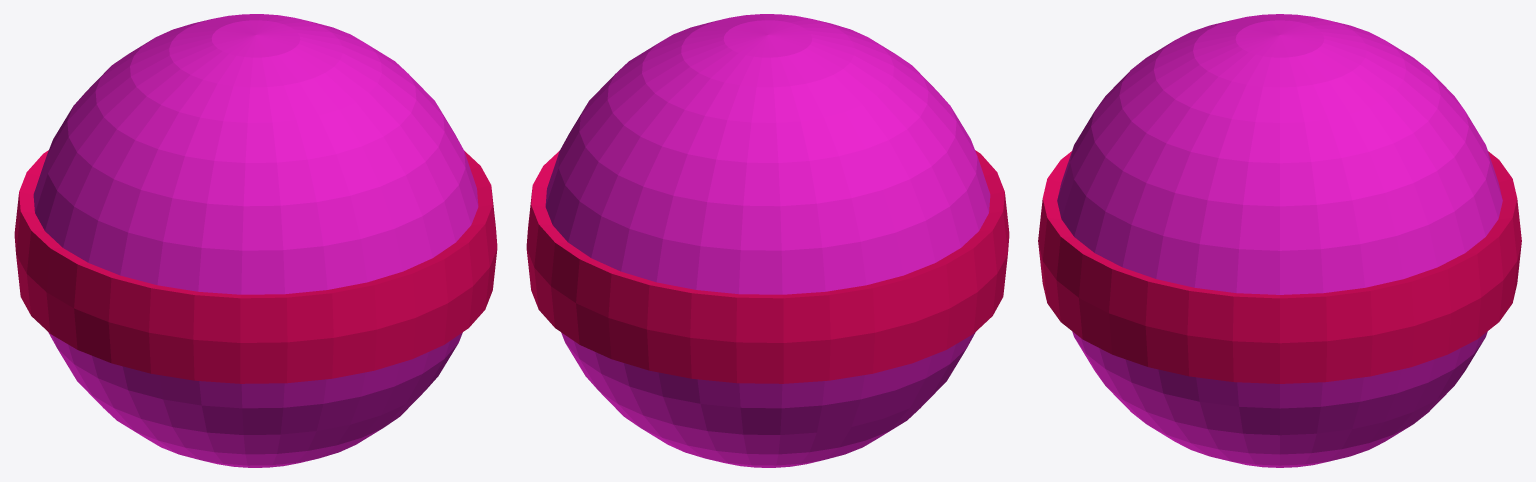
Rendered from lolipop ball.fbx.
3 views of the same model, side by side, from view 1: azimuth 30°, elevation 25°; view 2: azimuth 150°, elevation 25°; view 3: azimuth 270°, elevation 25° (orthographic).
Visible parts, largest first — view 1: Sphere; view 2: Sphere; view 3: Sphere.
Part boxes in pixels (bbox=[...]): Sphere: bbox=[14, 14, 497, 467]; Sphere: bbox=[526, 14, 1009, 467]; Sphere: bbox=[1038, 14, 1521, 467].
Size of the model in its own units: 213 by 200 by 213.
